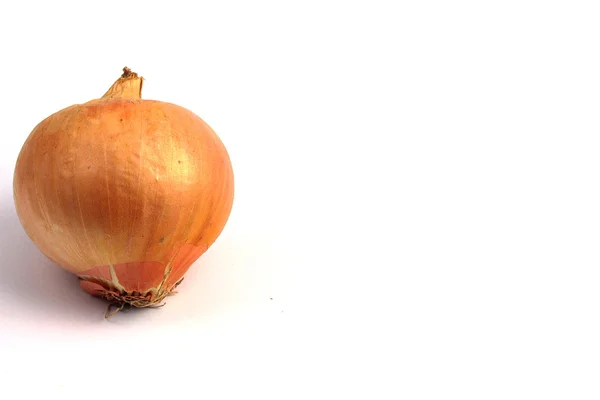onion: (14, 28, 242, 330)
